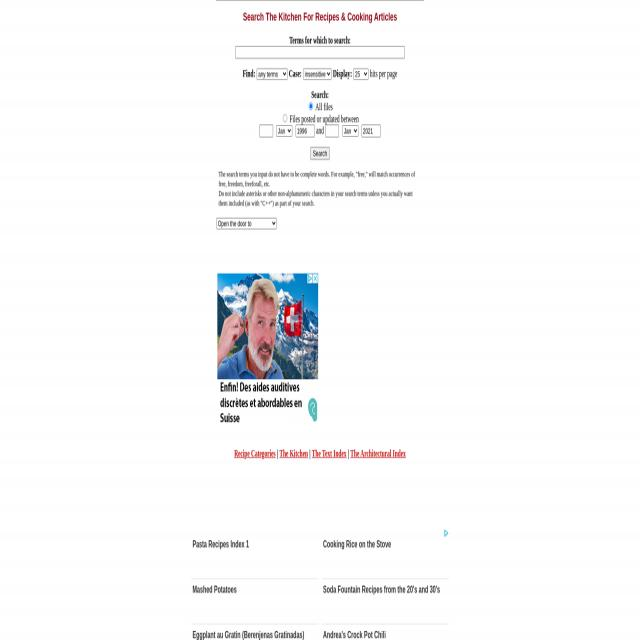button: (218, 273, 318, 430), (310, 147, 330, 159), (442, 528, 450, 538), (313, 274, 318, 283), (308, 274, 312, 283)
field: (235, 46, 405, 58), (216, 217, 277, 229), (256, 68, 288, 80), (303, 68, 331, 80), (362, 124, 381, 137), (296, 124, 314, 137), (259, 124, 273, 137), (325, 124, 339, 137), (276, 125, 292, 136), (342, 125, 358, 136), (354, 68, 368, 80), (309, 102, 313, 110), (283, 114, 287, 122)
